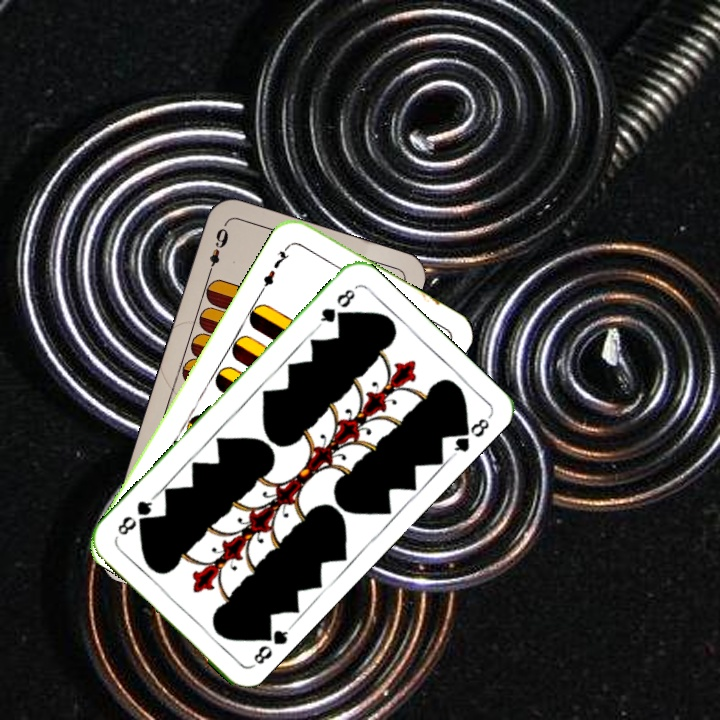E7: (257, 240, 293, 294)
E9: (203, 221, 231, 279)
G8: (248, 622, 294, 670), (313, 285, 358, 330)
